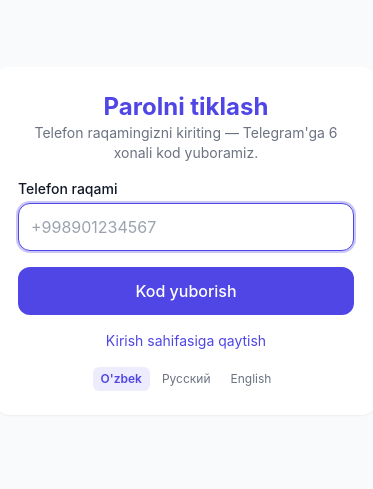
Test: ResetPasswordPage › kod so‘ralgach kod va yangi parol maydonlari chiqadi
Type "901112233" into the field labelled "Telefon raqami" at coordinates (186, 227), box top-left (18, 203), bottom-right (354, 251)
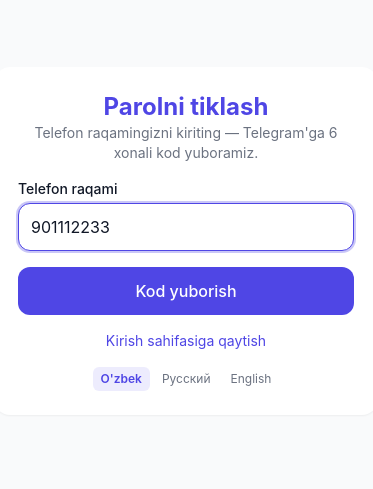
Click the button "Kod yuborish" at coordinates (186, 291), box top-left (18, 267), bottom-right (354, 315)
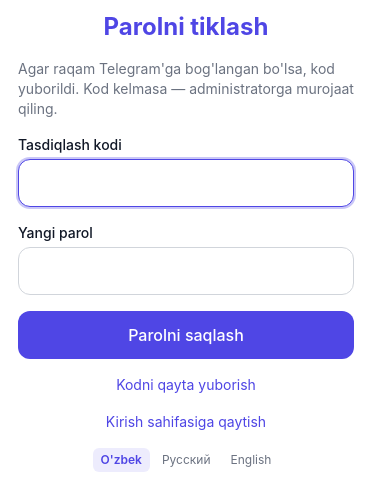
Check: the field labelled "Tasdiqlash kodi" is shown, box top-left (18, 158), bottom-right (354, 206)
Check: the password field labelled "Yangi parol" is shown, box top-left (18, 246), bottom-right (354, 294)
